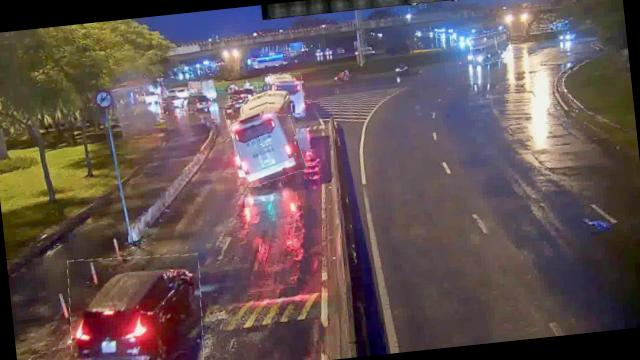Bus: (226, 88, 304, 186), (266, 71, 304, 117)
Car: (63, 250, 208, 360), (229, 82, 258, 105), (188, 91, 212, 113)
Truck: (469, 31, 513, 66)
